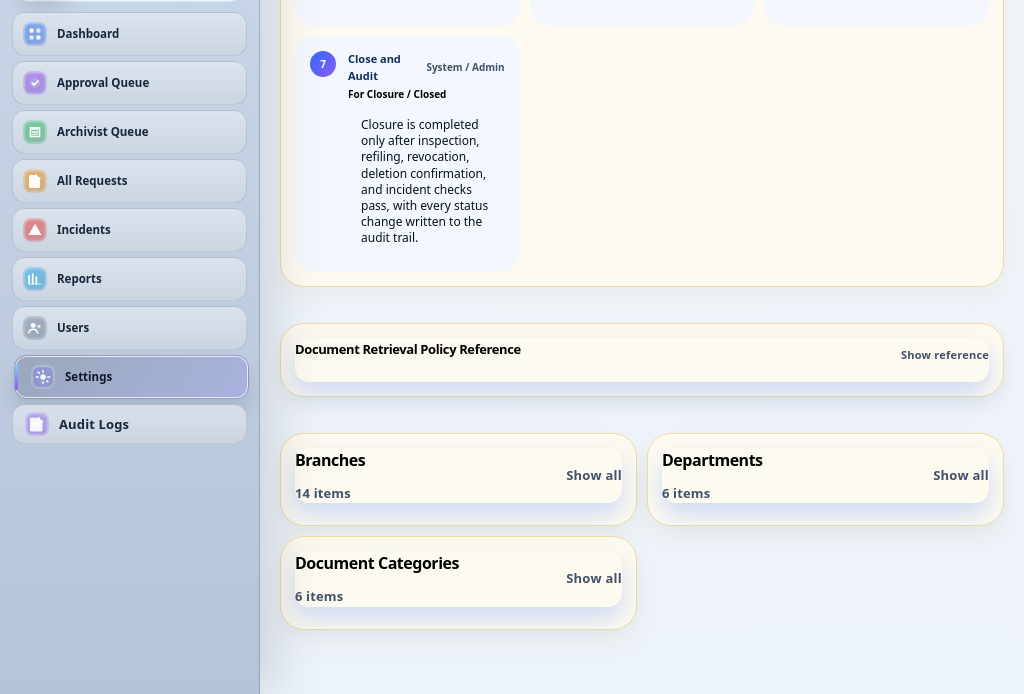
Test: settings policy content › renders the document retrieval policy reference in settings
The width and height of the screenshot is (1024, 694).
(page scrolled)
Click the button "Document Retrieval Policy Reference Show reference" at [408, 349], box top-left (295, 338), bottom-right (989, 382)
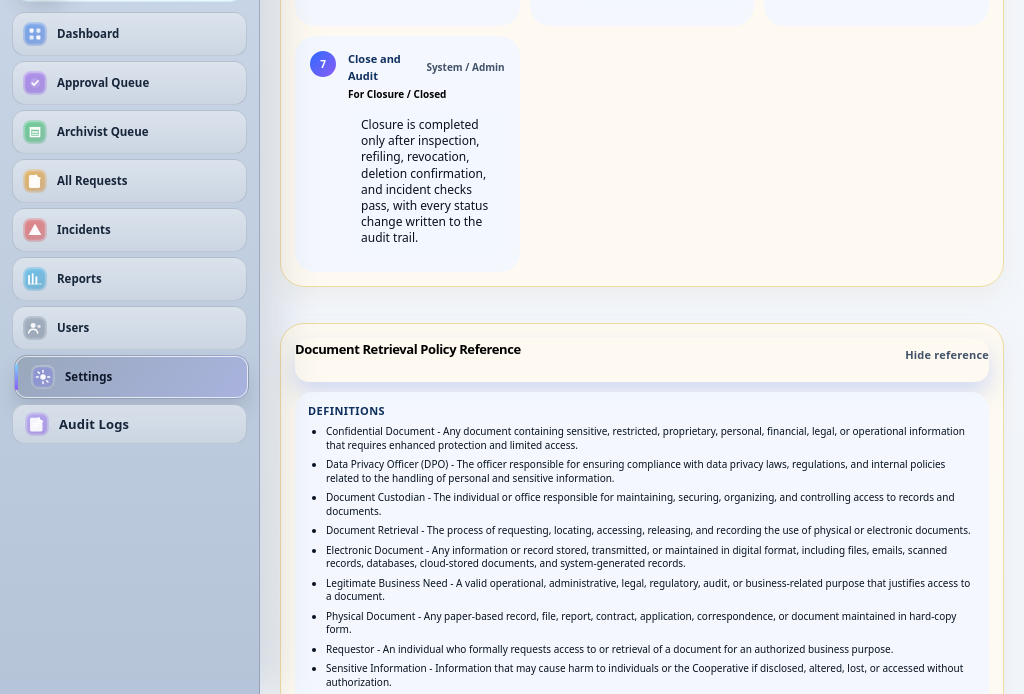
Now the heading "Definitions" is shown, box top-left (308, 402), bottom-right (385, 418)
Now the list item "Confidential Document" is shown, box top-left (326, 424), bottom-right (965, 452)
